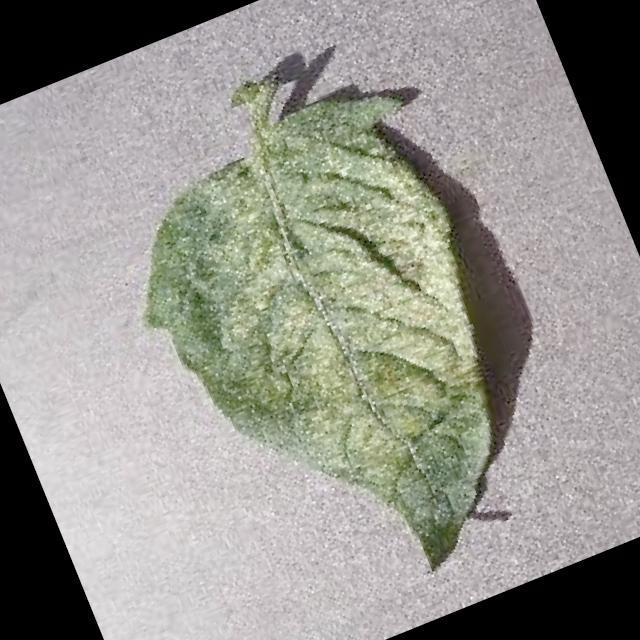Tomato spider mites leaf: (92, 72, 582, 640)
